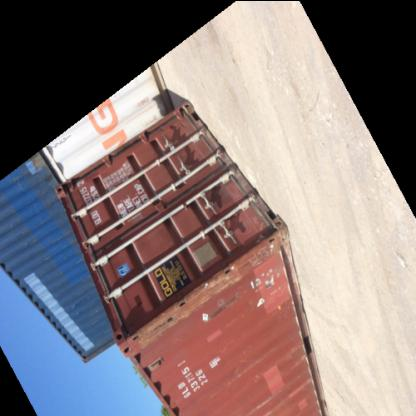Damage: (244, 377, 314, 413), (129, 306, 185, 346), (233, 231, 284, 265), (248, 268, 288, 311), (193, 270, 242, 292), (229, 351, 269, 375), (204, 295, 236, 315), (288, 340, 308, 366), (205, 350, 225, 376), (204, 384, 221, 401)
